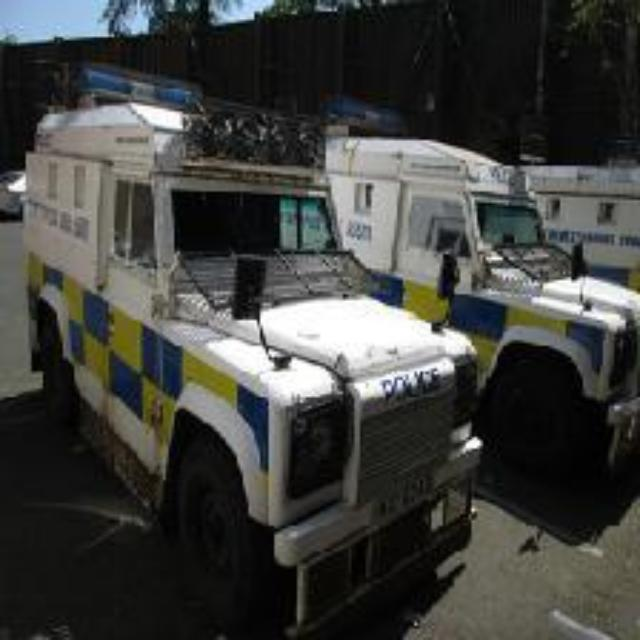emergency: (22, 66, 480, 614), (245, 109, 640, 495)
